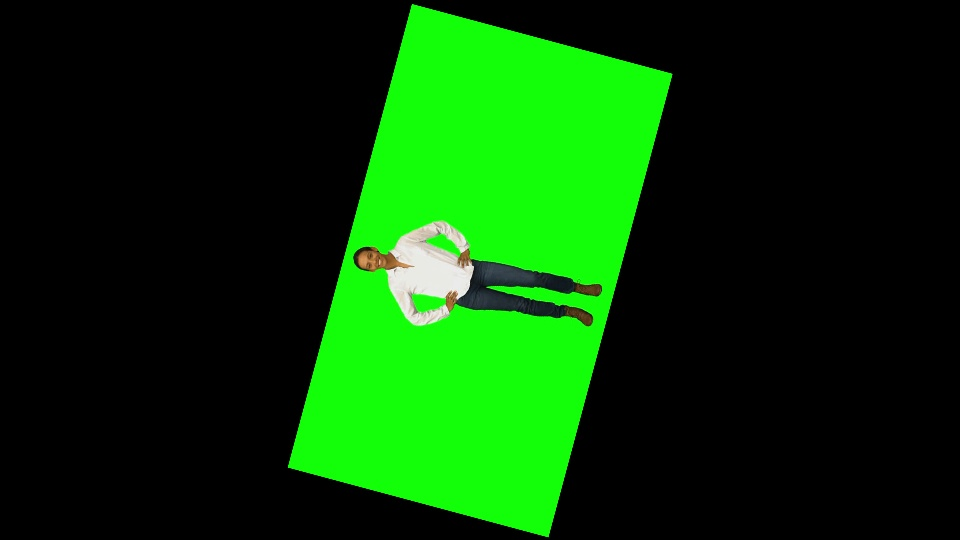arm: (382, 288, 446, 328), (401, 223, 476, 251)
chest: (397, 260, 470, 288)
face: (351, 255, 387, 268)
foot: (562, 309, 592, 326), (574, 285, 604, 298)
hand: (440, 291, 458, 312), (459, 254, 473, 269)
leg: (471, 267, 571, 290), (462, 293, 560, 315)
neck: (387, 260, 400, 269)
